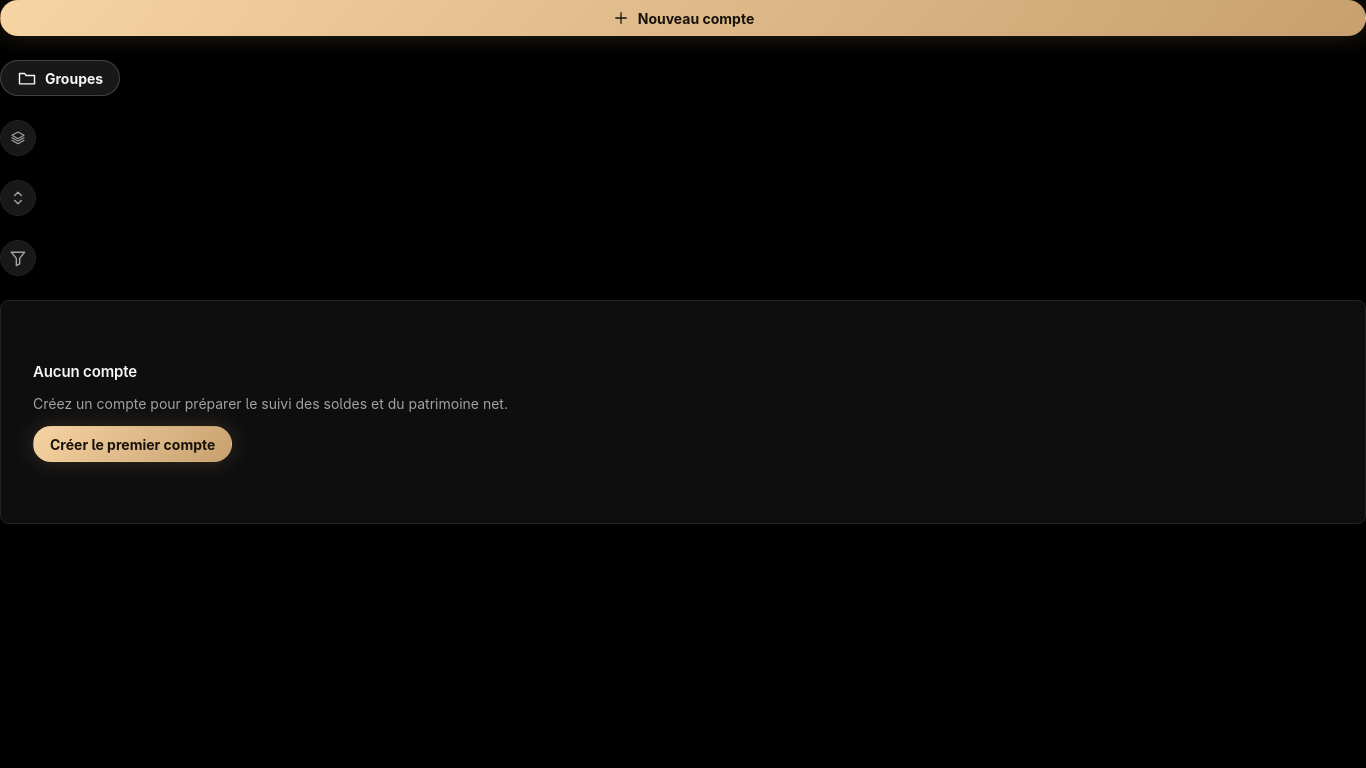
AccountsPage › lets a catalogue product be chosen when the workspace templates cannot be read
The image size is (1366, 768).
Click the button "Créer le premier compte" at (133, 444), box [33,426,232,462]
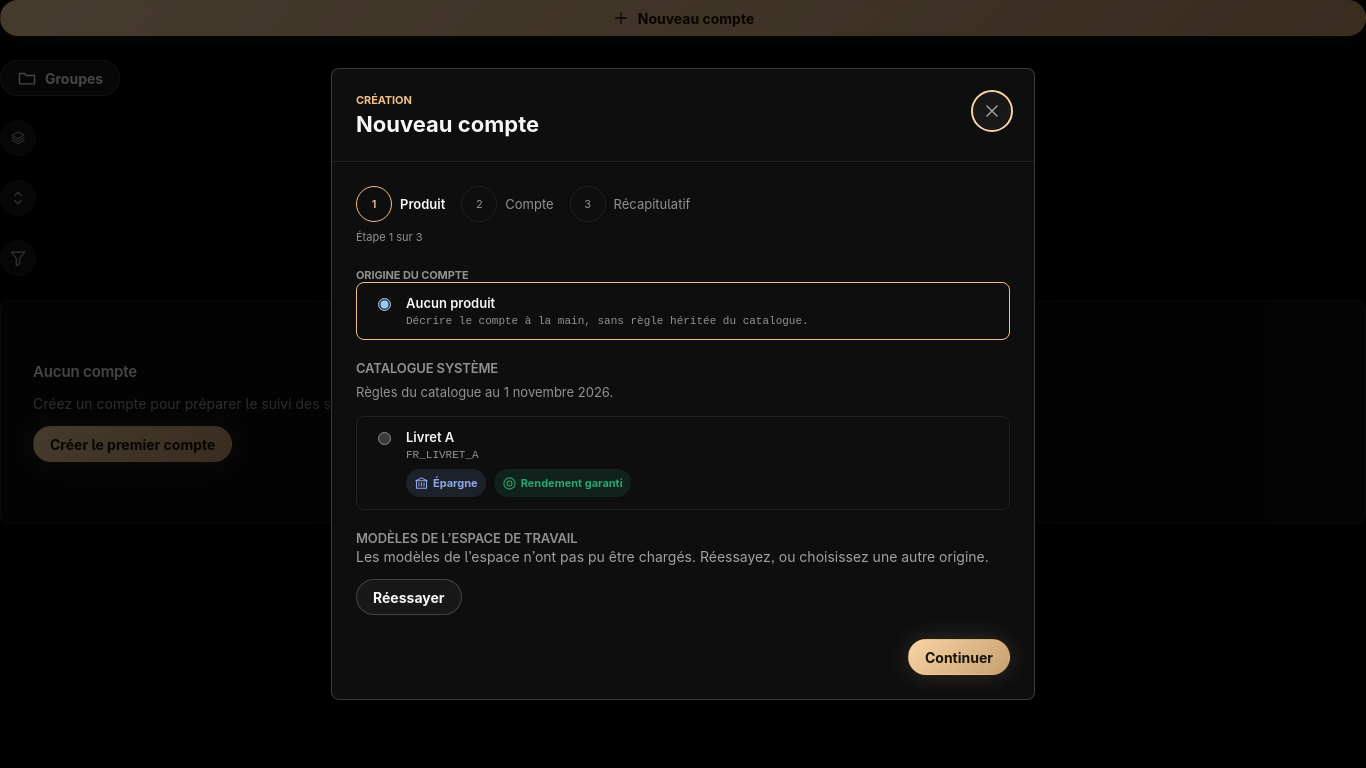
Result: the text "Les modèles de l’espace n’ont pas pu être chargés. Réessayez, ou choisissez une autre origine." is shown at [356,548,989,565]
Click the radio button labelled "Livret A FR_LIVRET_A Épargne Rendement garanti" at (384, 438), box [378,432,391,445]
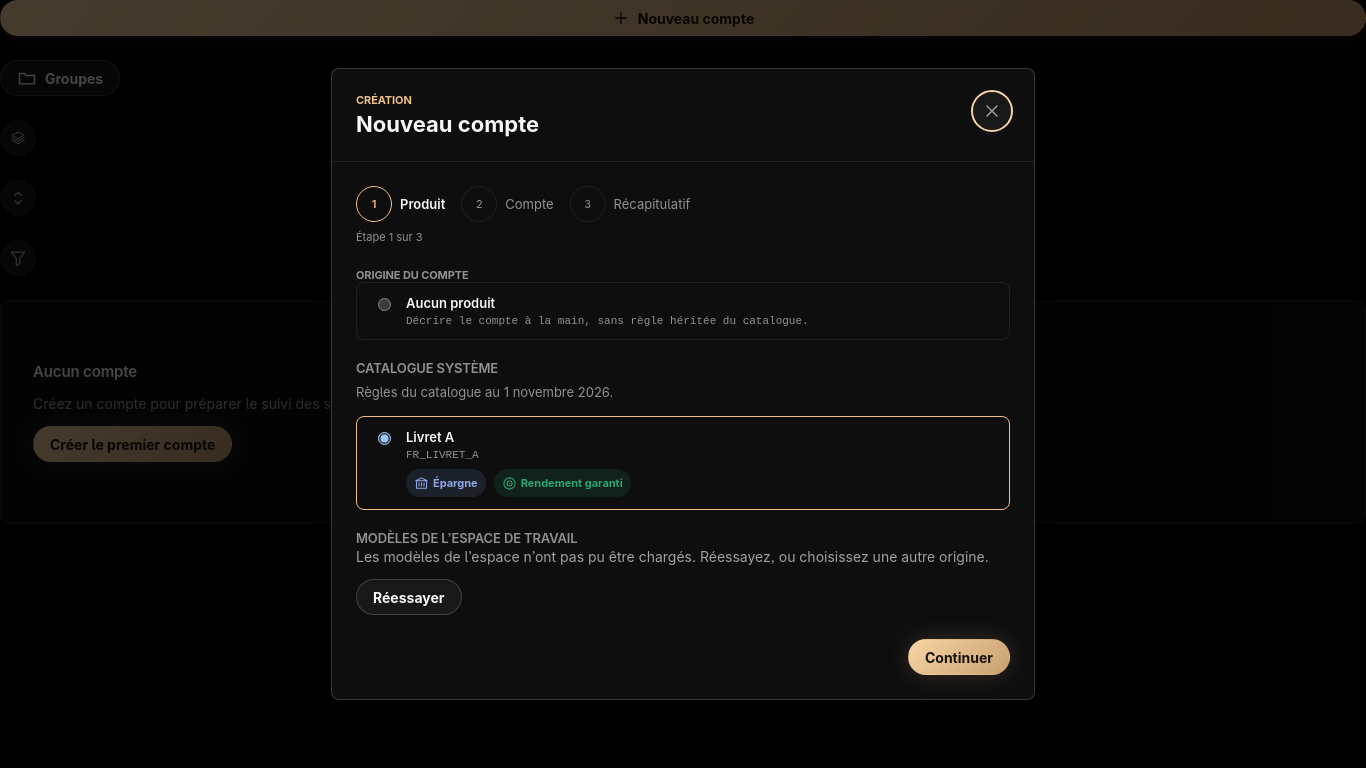
Click the button "Continuer" at (959, 657), box [908,639,1010,675]
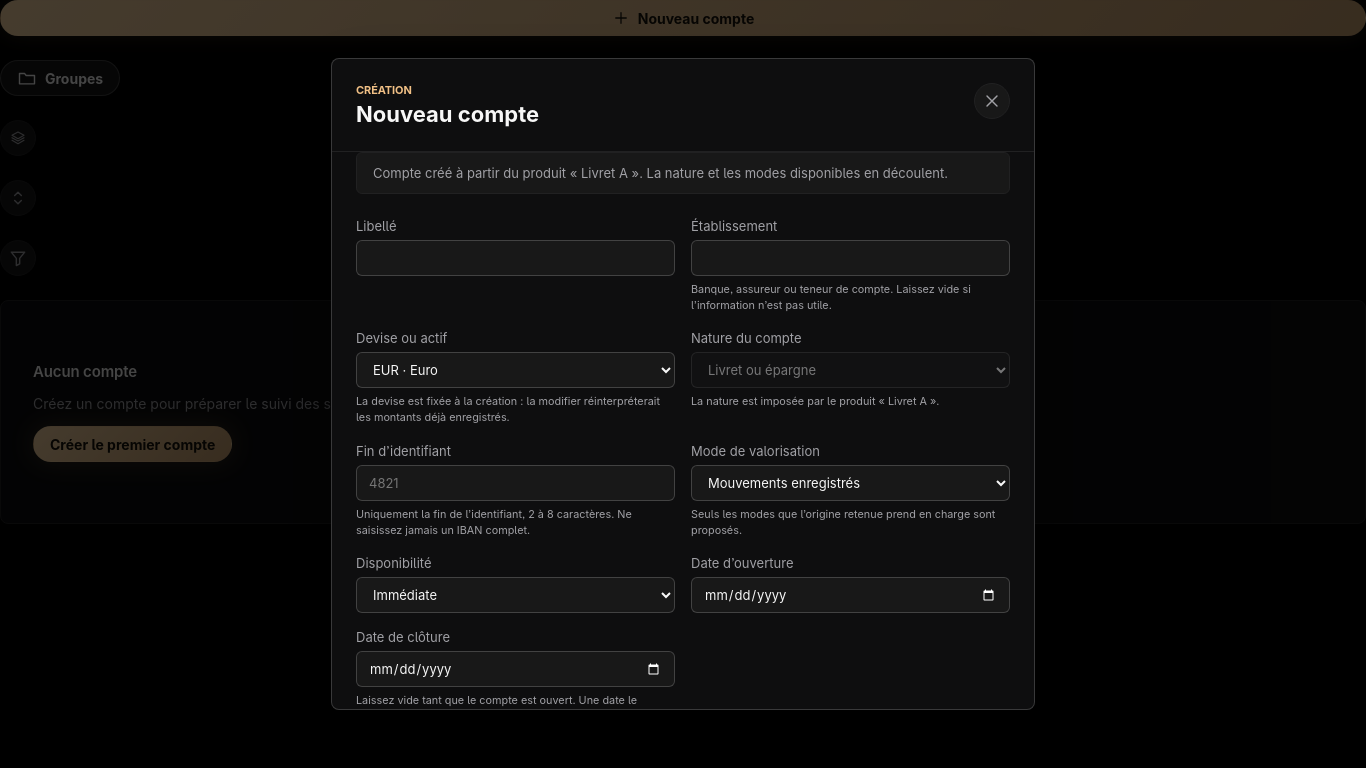
Result: the field labelled "Libellé" is shown at [356,240,675,276]
Result: the dropdown labelled "Nature du compte" is disabled at [691,352,1010,388]
